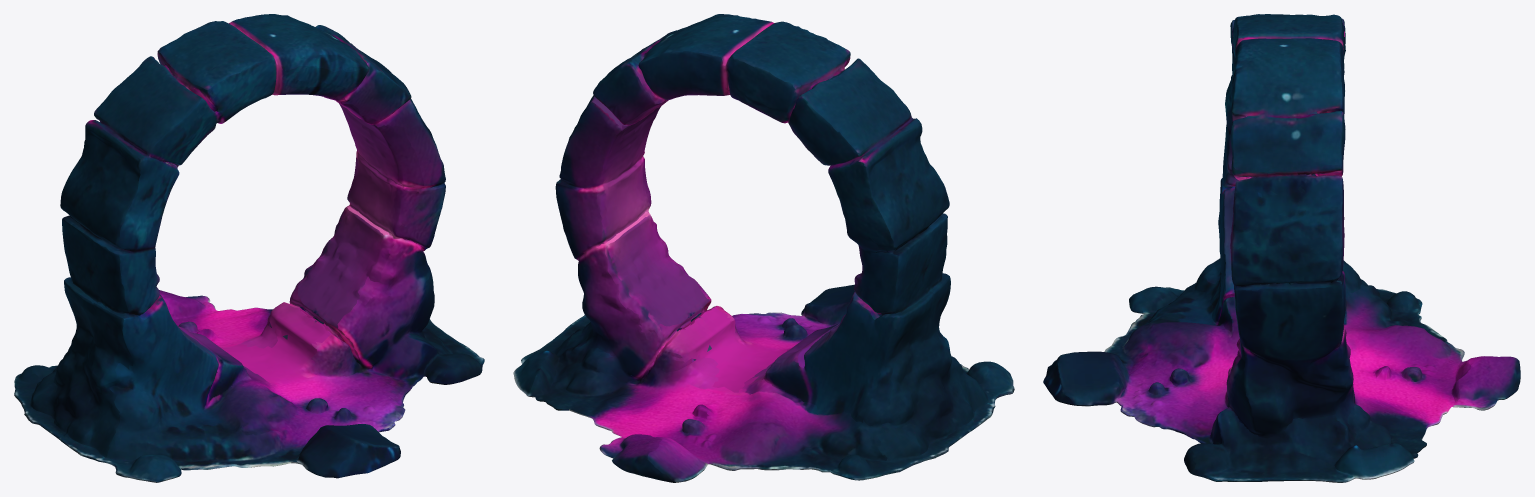
The model's file is broken-ring-generated-2026-05-17T20-56-18-499Z.high.glb.
The picture shows the model from 3 angles, left to right: view 1: azimuth 30°, elevation 25°; view 2: azimuth 150°, elevation 25°; view 3: azimuth 270°, elevation 25°; orthographic projection. The views are drawn at different scales.
Visible parts, largest first — view 1: temp_mesh.ply; view 2: temp_mesh.ply; view 3: temp_mesh.ply.
Boxes of the visible parts, left/top/right/bottom form: temp_mesh.ply: left=14, top=14, right=484, bottom=482; temp_mesh.ply: left=513, top=14, right=1014, bottom=482; temp_mesh.ply: left=1043, top=14, right=1520, bottom=482.
Bounding box in the file's own units: 1.94 × 1.59 × 1.96.
Materials: 1 (1 with a texture image).
